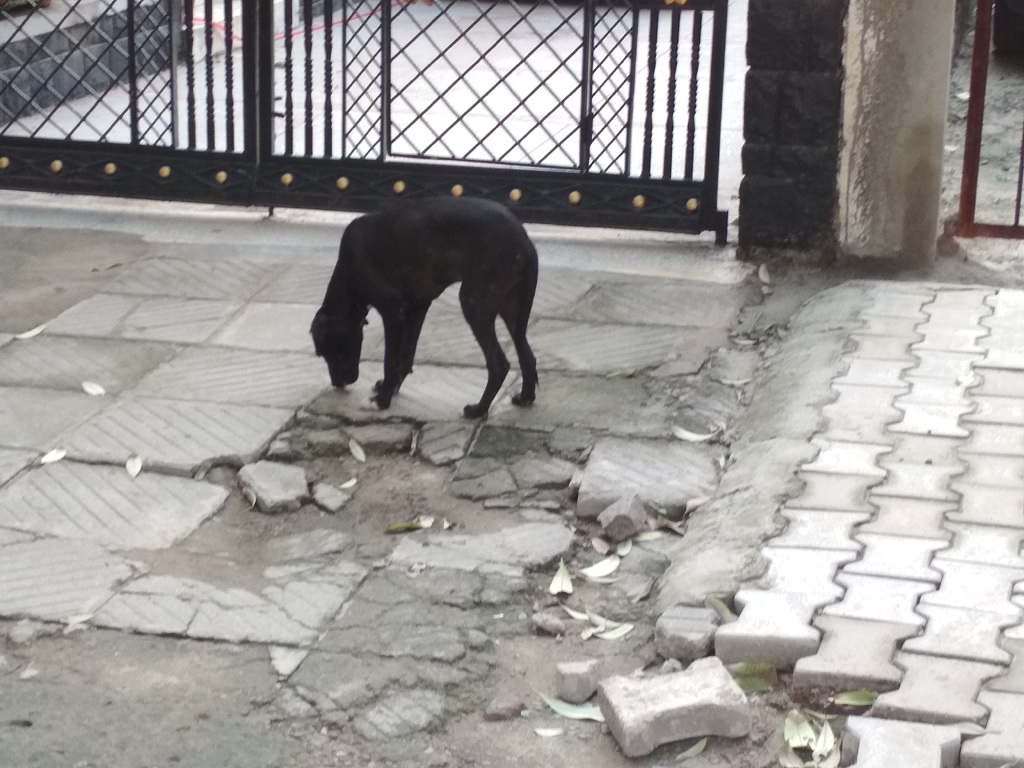dog: (311, 196, 540, 419)
